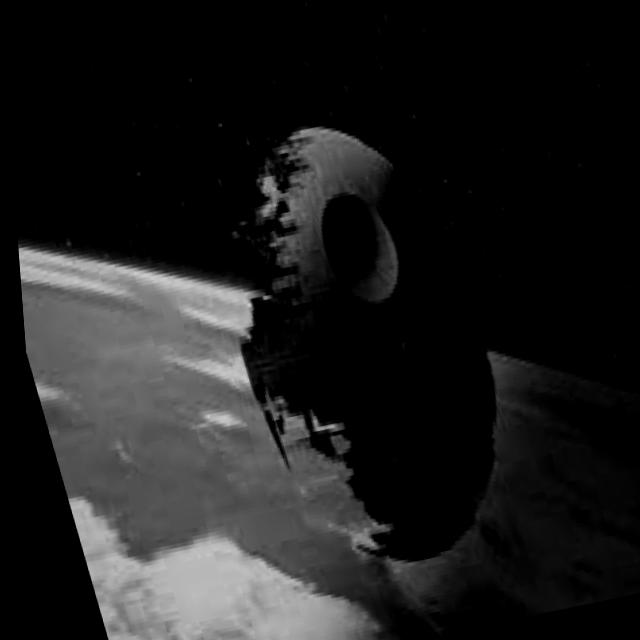death-stars: (235, 124, 492, 566)
